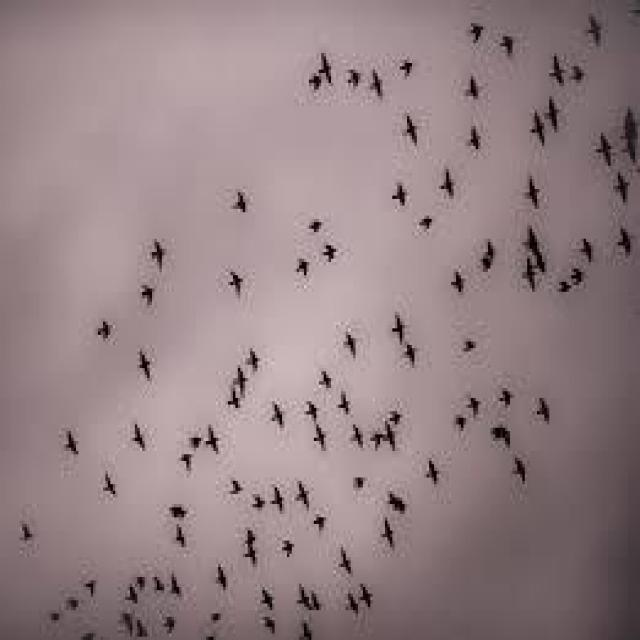bird: (460, 119, 485, 160), (589, 130, 615, 167), (266, 394, 288, 436), (583, 15, 604, 57), (545, 88, 563, 136), (526, 105, 546, 148), (380, 418, 403, 455), (230, 366, 256, 398), (464, 13, 487, 48), (402, 111, 421, 153), (148, 565, 170, 600), (212, 558, 232, 596), (550, 48, 568, 90), (242, 528, 260, 570), (525, 177, 545, 214), (462, 71, 484, 104), (478, 234, 502, 264), (267, 483, 288, 517), (520, 256, 540, 291), (368, 64, 386, 102), (513, 452, 531, 490), (311, 417, 330, 453), (206, 418, 224, 456), (221, 384, 245, 412), (129, 419, 147, 456), (422, 453, 441, 488), (618, 136, 640, 166), (438, 165, 456, 201), (384, 490, 408, 517), (448, 267, 467, 301), (340, 327, 360, 359), (321, 48, 336, 90), (500, 27, 518, 62), (538, 392, 554, 431), (102, 466, 119, 502), (137, 349, 153, 387), (338, 548, 357, 580), (336, 391, 356, 421), (229, 261, 245, 298), (258, 584, 278, 613), (389, 176, 407, 208), (471, 250, 495, 274), (166, 564, 182, 600), (349, 422, 368, 452), (316, 365, 337, 392), (180, 449, 201, 476), (151, 237, 167, 272), (492, 421, 512, 449), (578, 236, 596, 267), (248, 487, 266, 518), (392, 308, 407, 345), (524, 227, 542, 257), (62, 422, 78, 455), (616, 168, 632, 201), (342, 588, 360, 617), (498, 382, 514, 414), (401, 335, 417, 367), (306, 395, 322, 427), (394, 57, 415, 81), (164, 502, 192, 520), (297, 615, 317, 640), (293, 256, 312, 282), (621, 109, 637, 139), (187, 428, 207, 452), (419, 211, 438, 236), (215, 562, 230, 593), (296, 479, 311, 510), (309, 580, 324, 611), (465, 389, 481, 418), (569, 267, 592, 287), (382, 515, 395, 550), (96, 313, 111, 343), (452, 409, 470, 434), (248, 346, 264, 374), (570, 61, 587, 87), (306, 218, 328, 238), (295, 582, 310, 611), (227, 474, 244, 499), (359, 580, 374, 608), (619, 225, 633, 254), (552, 276, 570, 298), (133, 613, 147, 640), (322, 239, 337, 264), (163, 613, 179, 636), (234, 187, 247, 215), (120, 612, 134, 638), (304, 72, 322, 92), (18, 522, 33, 546), (346, 68, 363, 89), (348, 473, 369, 490), (370, 430, 385, 453), (266, 613, 278, 640), (208, 608, 226, 626), (140, 283, 154, 306), (127, 582, 141, 604), (316, 509, 329, 531), (86, 576, 99, 598), (281, 537, 296, 556), (387, 408, 405, 423), (49, 610, 61, 629), (79, 628, 98, 640), (134, 572, 146, 591), (66, 596, 78, 610), (464, 339, 477, 350)
